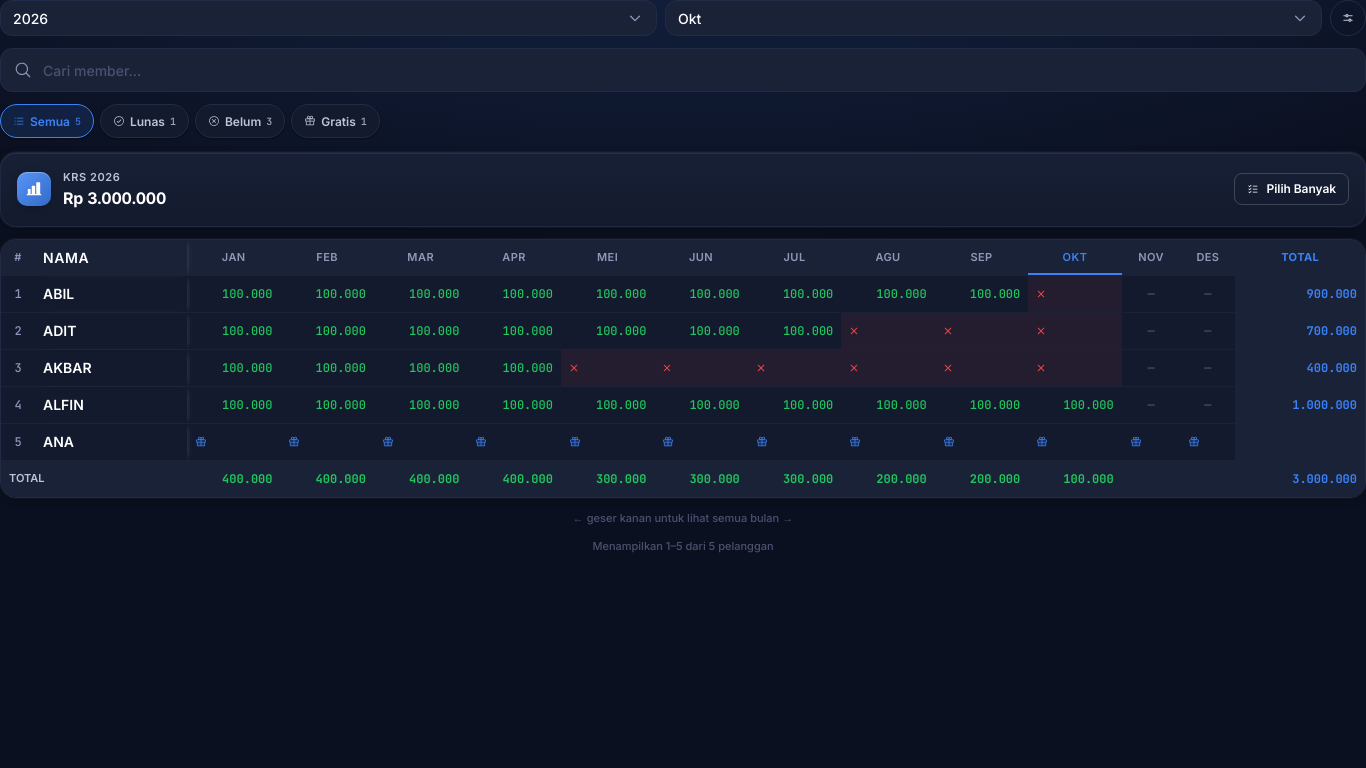
it: RekapView (T8) › ketuk sel membuka RekapModal; nominal cepat menulis payment dan menutup dialog
Click the cell named "Okt 2026" in the row of "700.000" at (1075, 331), box [1028, 312, 1122, 350]
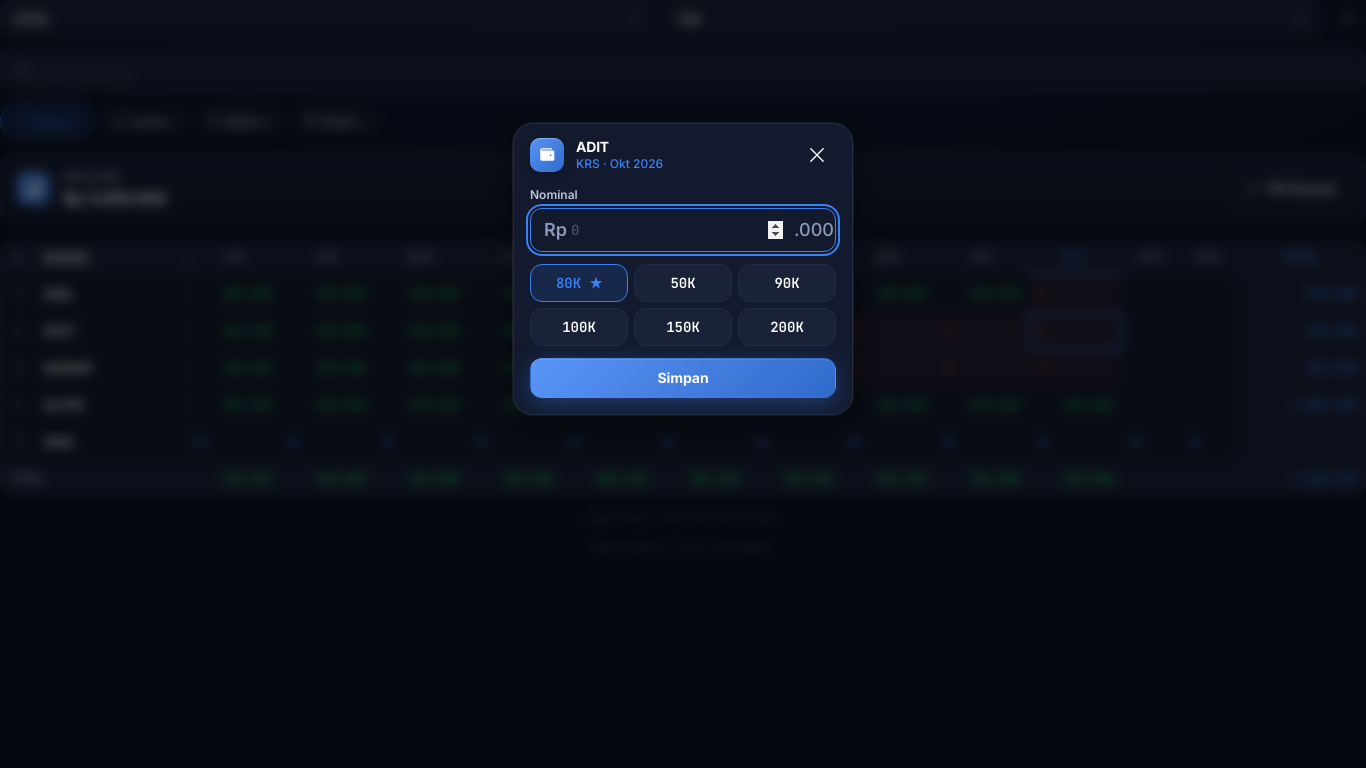
Check: the text "ADIT" is shown, box [576, 138, 609, 155]
Check: the text "KRS · Okt 2026" is shown, box [576, 156, 663, 171]
Click the button "90K" at (787, 283), box [738, 264, 836, 302]
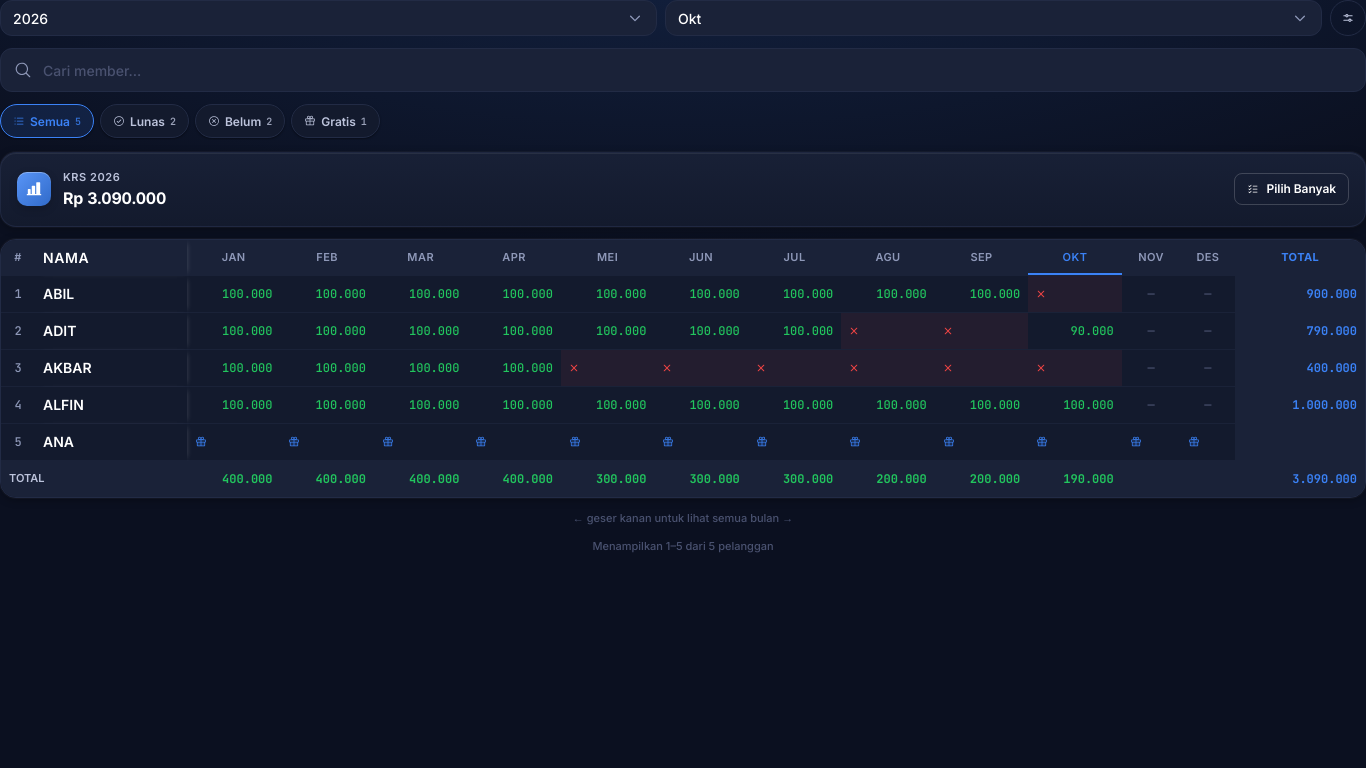
Check: the dialog is gone
